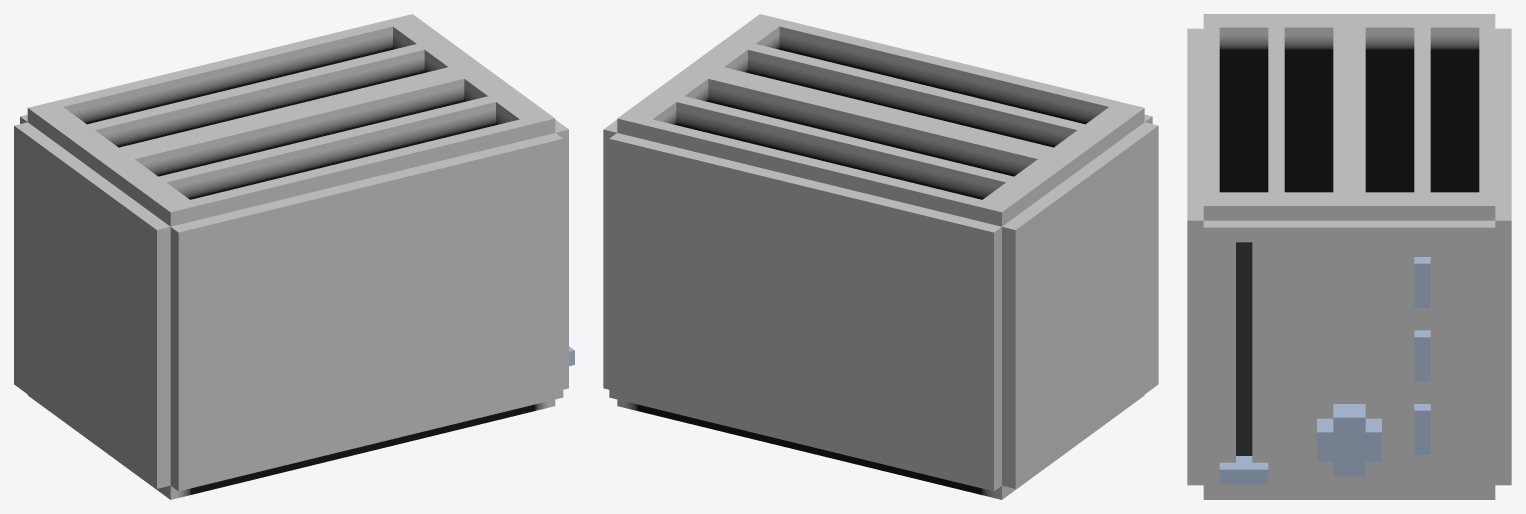
The model's file is SmallObject_Toaster.fbx.
3 views of the same model, side by side, from view 1: azimuth 30°, elevation 25°; view 2: azimuth 150°, elevation 25°; view 3: azimuth 270°, elevation 25° (orthographic). The views are drawn at different scales.
Visible parts, largest first — view 1: Toaster; view 2: Toaster; view 3: Toaster.
Part boxes in pixels (x1,y1,x2,y2): Toaster: (14, 14, 574, 499); Toaster: (603, 14, 1158, 499); Toaster: (1187, 14, 1511, 499).
Bounding box in the file's own units: 32 × 20 × 20.
